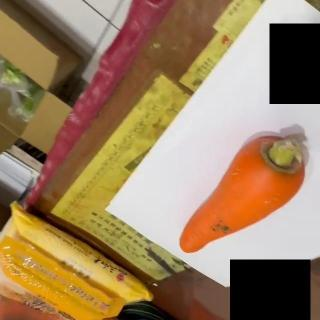carrot: (177, 134, 307, 255)
